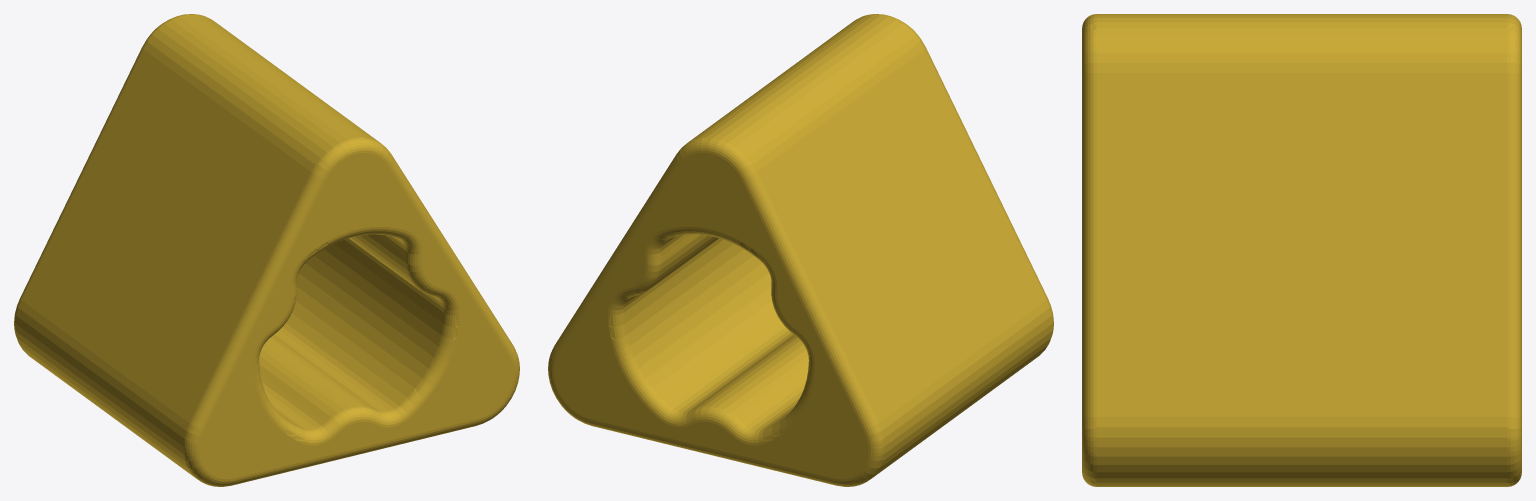
The model's file is block5.OBJ.
3 renders of one model, left to right at view 1: azimuth 30°, elevation 25°; view 2: azimuth 150°, elevation 25°; view 3: azimuth 270°, elevation 25°, orthographic. The views are drawn at different scales.
Parts seen in each view (by area): view 1: block5; view 2: block5; view 3: block5.
Boxes of the visible parts, x1=… form: block5: x1=14, y1=14, x2=519, y2=486; block5: x1=548, y1=14, x2=1053, y2=486; block5: x1=1082, y1=14, x2=1521, y2=486.
Size of the model in its own units: 0.0162 by 0.0146 by 0.015.
